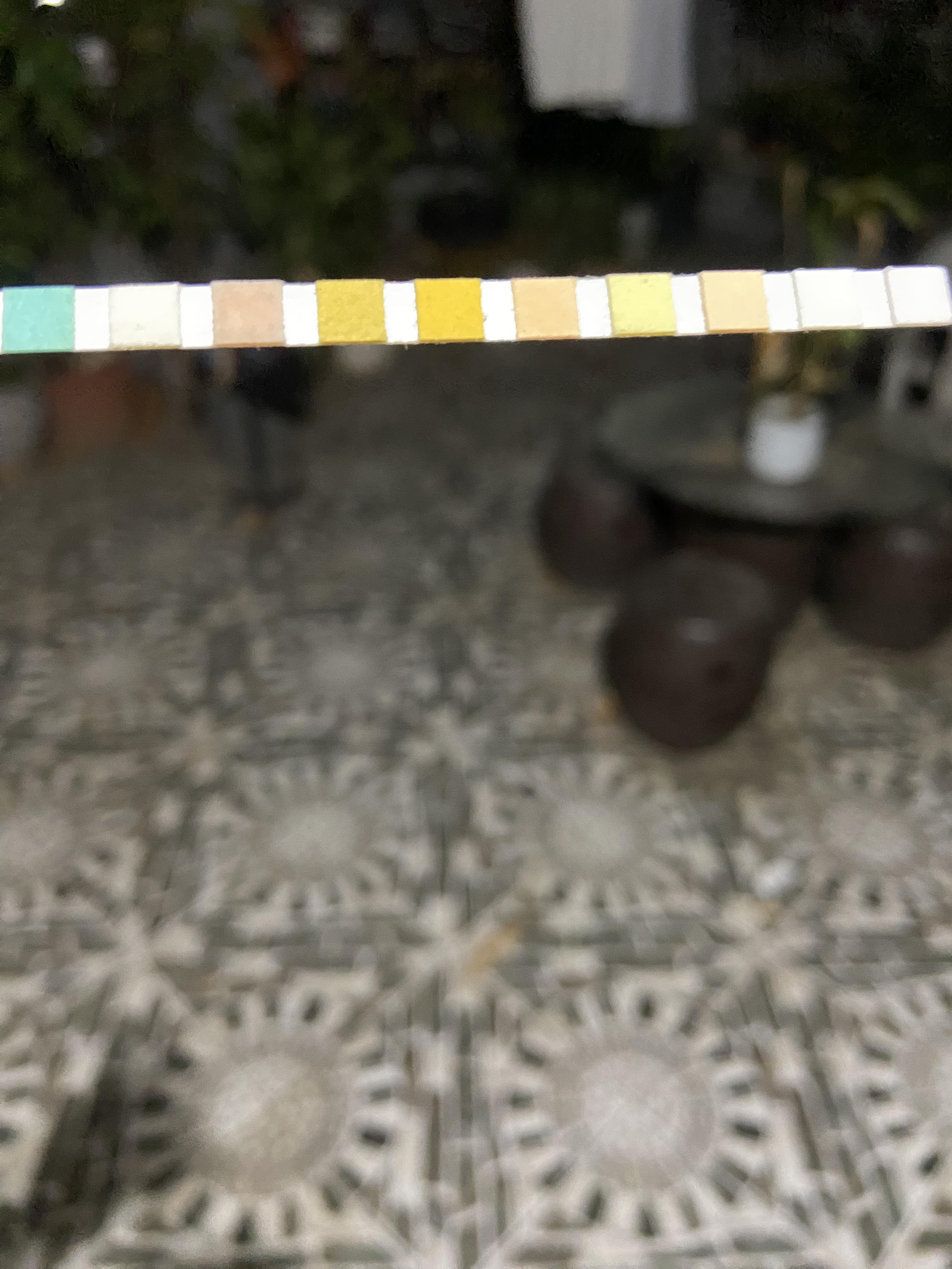Bilirubin: (113, 284, 178, 346)
Blood: (420, 281, 481, 337)
Glucose: (3, 288, 72, 349)
Ketone: (215, 284, 285, 342)
Leukocytes: (901, 269, 946, 323)
Nitrite: (804, 271, 859, 326)
Protein: (617, 276, 670, 331)
SpGravity: (320, 283, 383, 339)
Urobilinogen: (713, 272, 762, 327)
pH: (520, 278, 576, 336)
strip: (0, 266, 951, 354)
